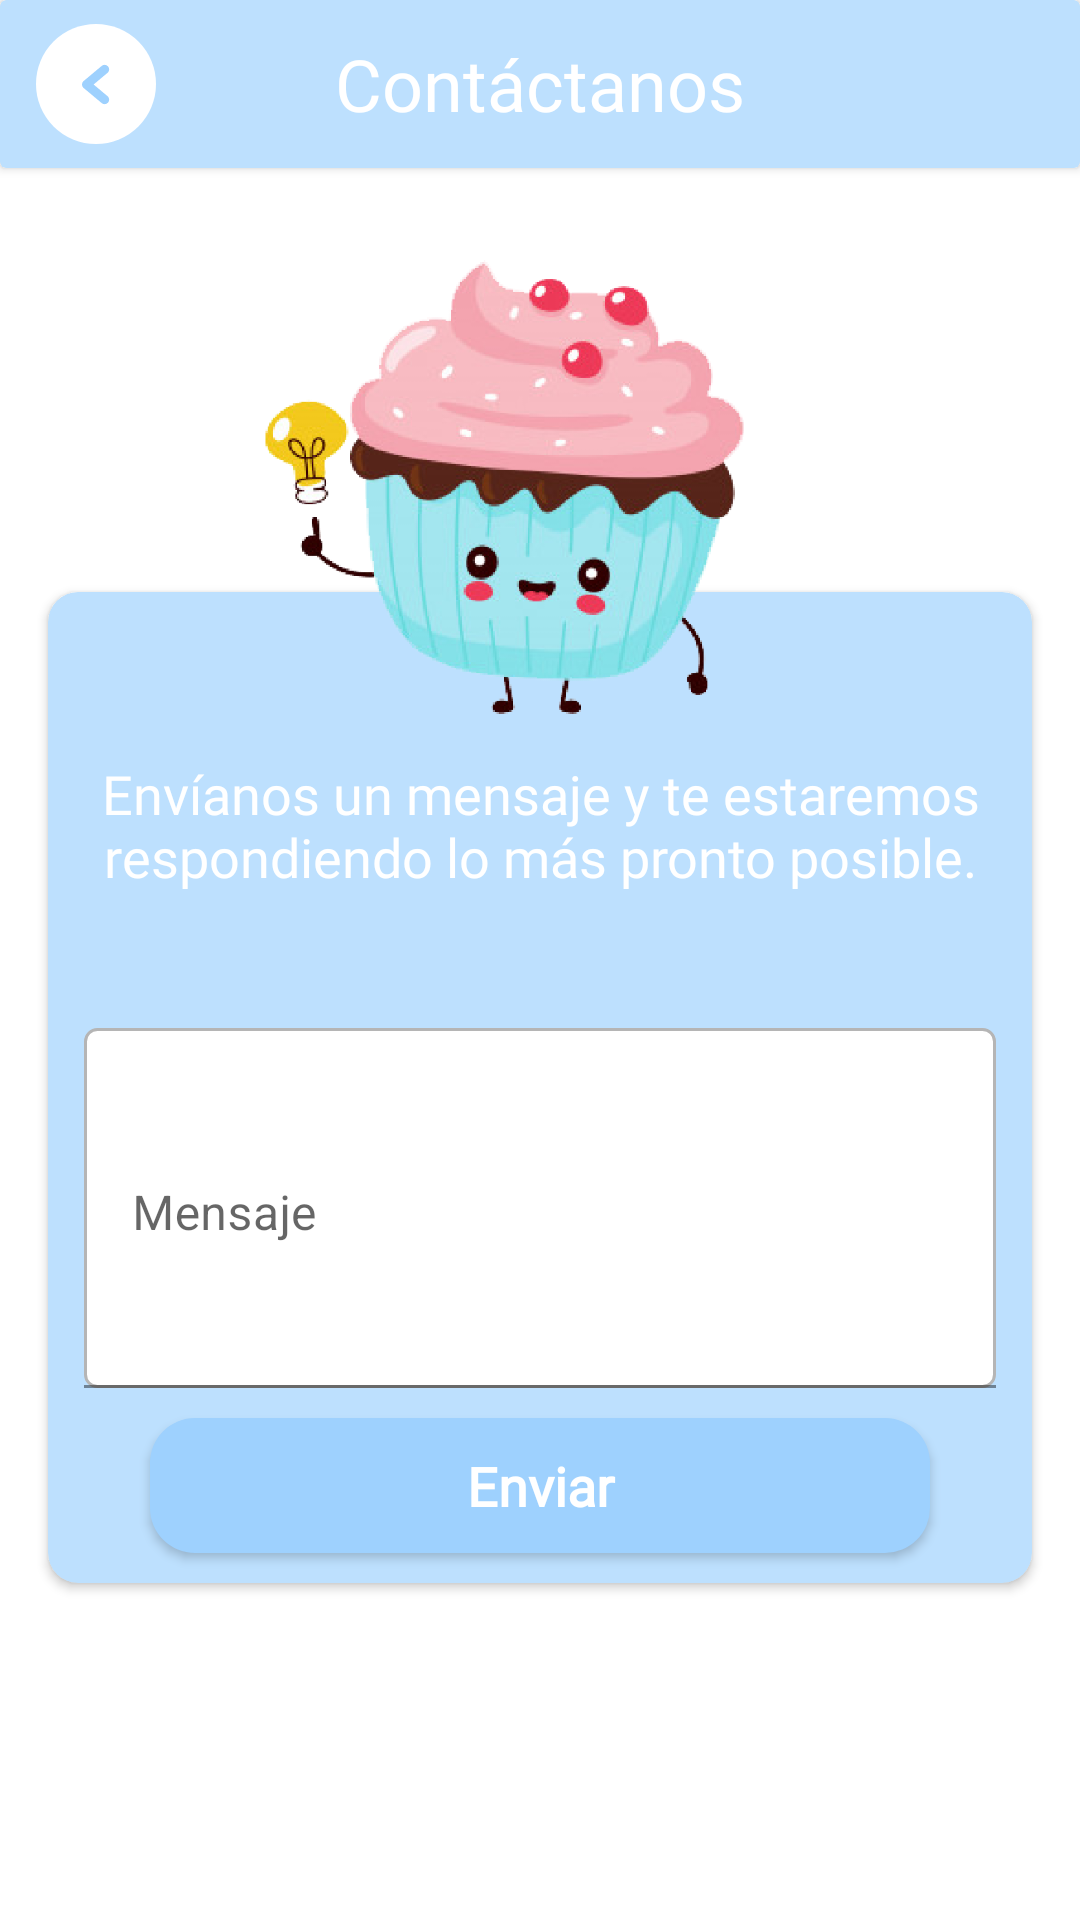

Screen size 1080w x 1920h. Icon name, then its box in pixels as (x1, y1, x2, y2):
back: (36, 24, 156, 144)
